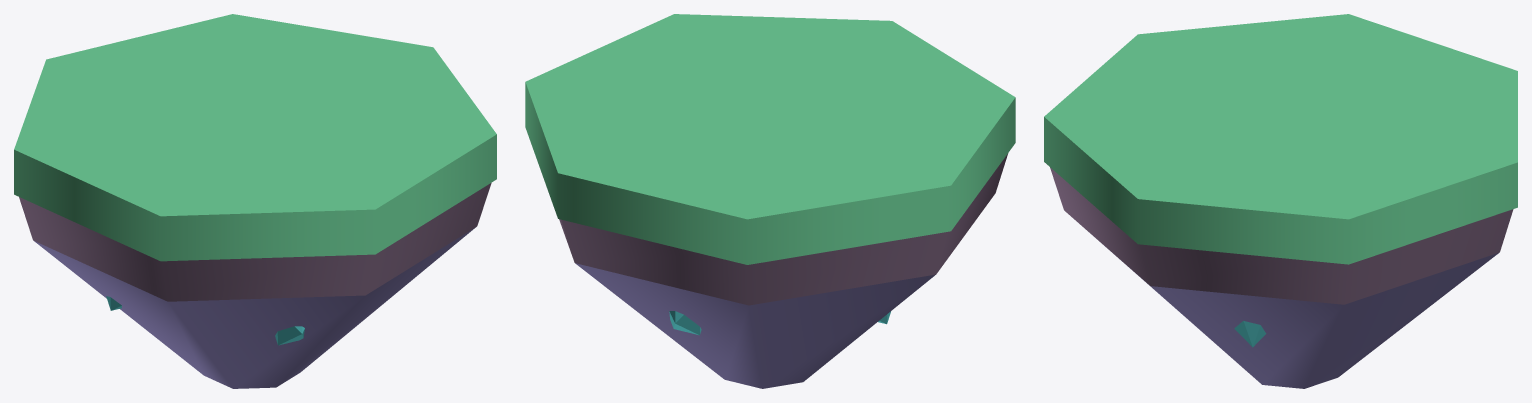
The model's file is small-floating-island.glb.
3 renders of one model, left to right at view 1: azimuth 30°, elevation 25°; view 2: azimuth 150°, elevation 25°; view 3: azimuth 270°, elevation 25°, orthographic.
Parts seen in each view (by area): view 1: grass-cap, soil-band, faceted-rock, embedded-crystal-1; view 2: grass-cap, faceted-rock, soil-band, embedded-crystal-3; view 3: grass-cap, soil-band, faceted-rock, embedded-crystal-0.
Boxes of the visible parts, x1,y1,x2,y2 form: grass-cap: (14,14,496,261); soil-band: (19,183,491,301); faceted-rock: (34,227,475,388); embedded-crystal-1: (275,326,304,345); grass-cap: (525,14,1015,264); faceted-rock: (575,263,935,388); soil-band: (559,153,1008,305); embedded-crystal-3: (669,311,701,335); grass-cap: (1044,14,1517,264); soil-band: (1050,167,1513,304); faceted-rock: (1080,224,1498,388); embedded-crystal-0: (1234,321,1266,347).
Bounding box in the file's own units: 1.36 × 0.78 × 1.33.
